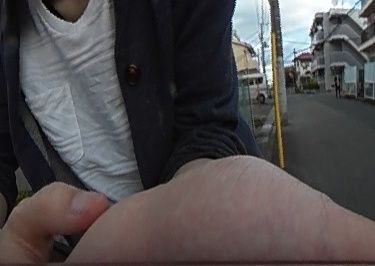person: (332, 71, 343, 99)
